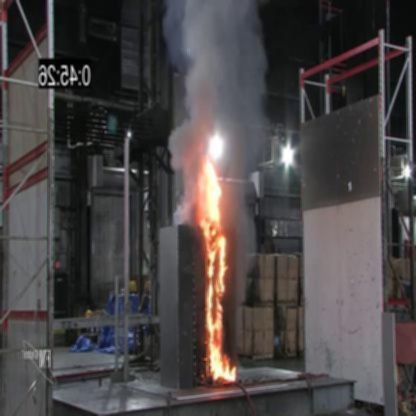fire: (191, 173, 234, 384)
smoke: (172, 0, 255, 166)
